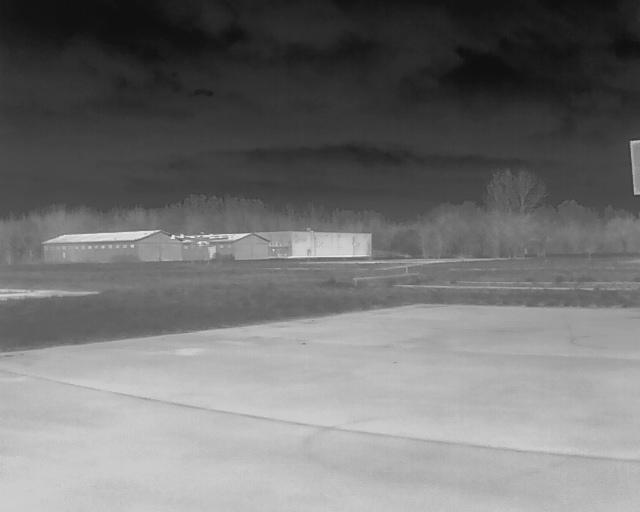drone: (171, 225, 229, 277)
